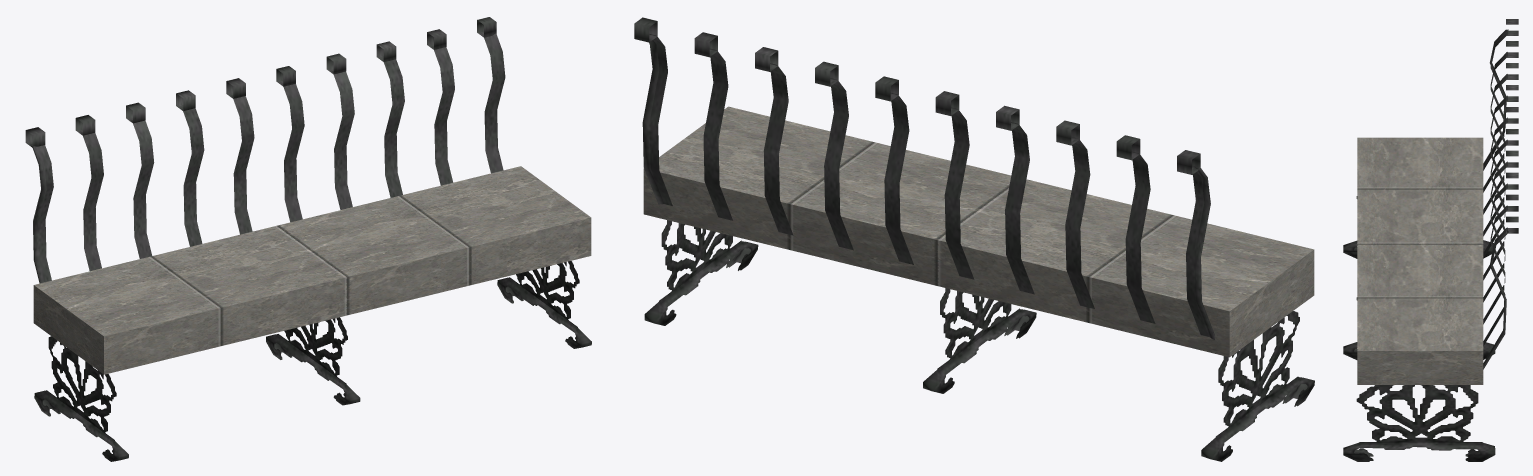
File: mun_all_imprv_bench_l0.fbx
3 views of the same model, side by side, from view 1: azimuth 30°, elevation 25°; view 2: azimuth 150°, elevation 25°; view 3: azimuth 270°, elevation 25° (orthographic). The views are drawn at different scales.
Parts seen in each view (by area): view 1: mesh_node; view 2: mesh_node; view 3: mesh_node.
Part boxes in pixels (x1=…): mesh_node: x1=25, y1=17, x2=591, y2=461; mesh_node: x1=634, y1=17, x2=1314, y2=461; mesh_node: x1=1343, y1=19, x2=1518, y2=461.
Size of the model in its own units: 2 by 1.04 by 0.6956.
